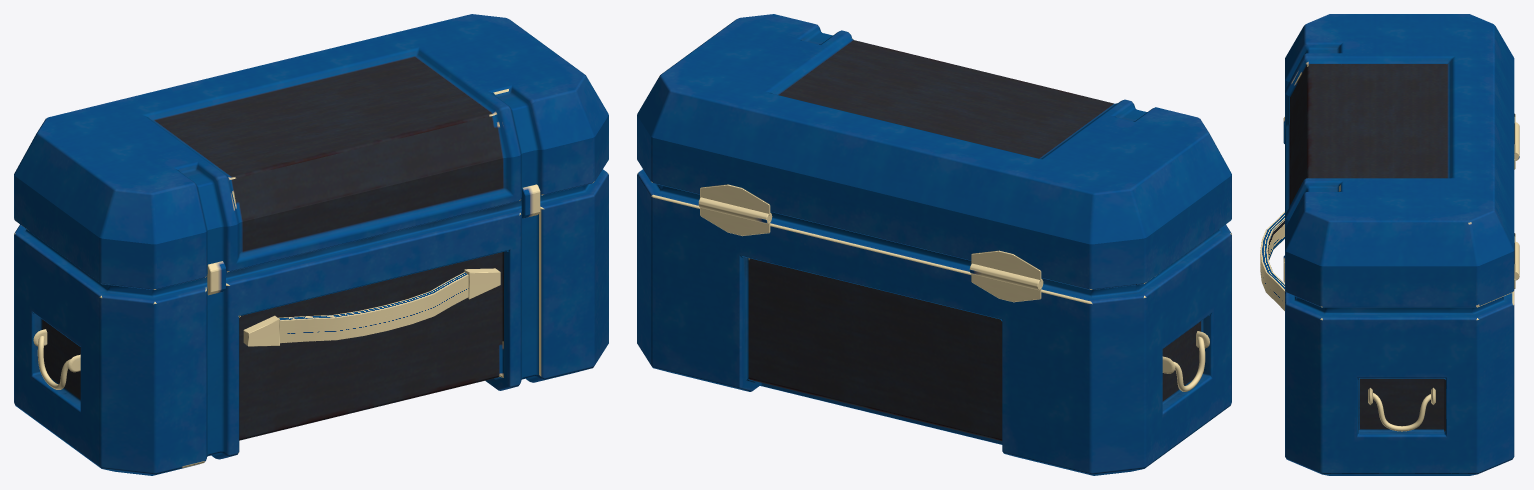
Rendered from SkibRare.glb.
3 views of the same model, side by side, from view 1: azimuth 30°, elevation 25°; view 2: azimuth 150°, elevation 25°; view 3: azimuth 270°, elevation 25° (orthographic). The views are drawn at different scales.
Parts seen in each view (by area): view 1: Cube.005, Cube, Cube.002, Cube.003, Cube.004; view 2: Cube, Cube.005, Cube.001, Cylinder; view 3: Cube.005, Cube, Cube.002, NurbsCurve, Cylinder.
Boxes of the visible parts, x1,y1,x2,y2 form: Cube.005: [14, 14, 608, 289]; Cube: [14, 169, 608, 475]; Cube.002: [278, 272, 468, 343]; Cube.003: [243, 268, 500, 346]; Cube.004: [207, 184, 540, 295]; Cube: [637, 169, 1231, 475]; Cube.005: [637, 14, 1231, 289]; Cube.001: [700, 184, 1041, 302]; Cylinder: [698, 197, 1043, 290]; Cube.005: [1285, 14, 1514, 307]; Cube: [1285, 291, 1514, 475]; Cube.002: [1260, 211, 1284, 310]; NurbsCurve: [1373, 393, 1430, 431]; Cylinder: [1514, 122, 1519, 280].
Bounding box in the file's own units: 8.12 × 4.22 × 3.88.
1 material, 1 textured.
